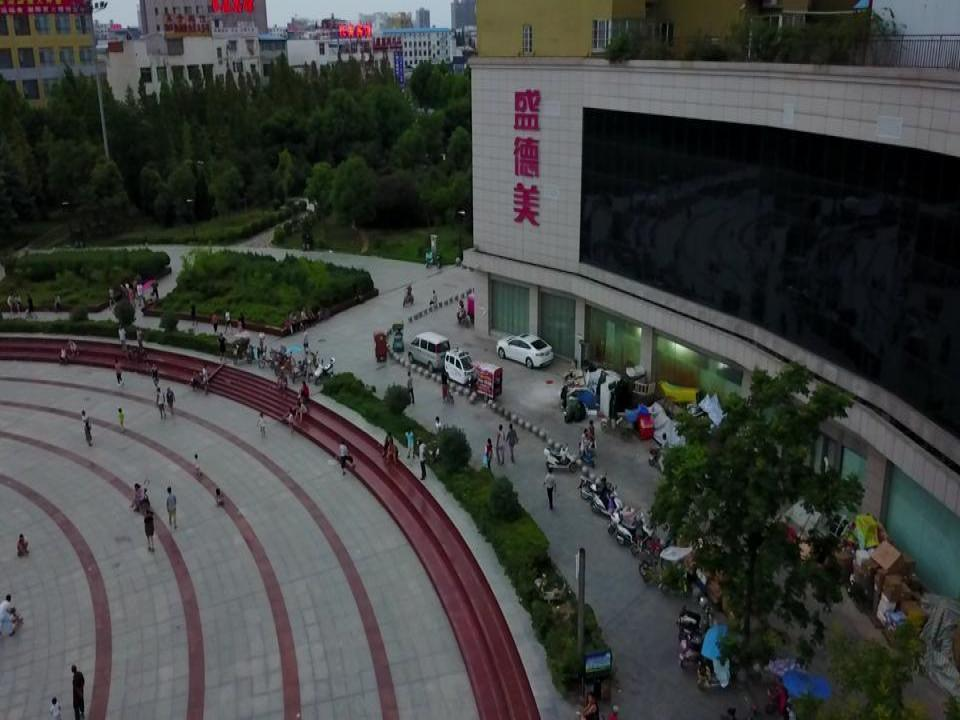car: (496, 333, 554, 367), (232, 340, 256, 364)
van: (407, 328, 451, 371)
